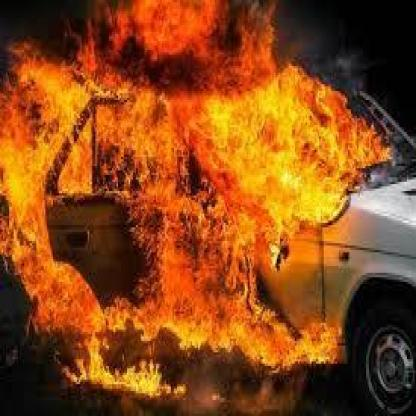fire: (0, 0, 390, 398)
